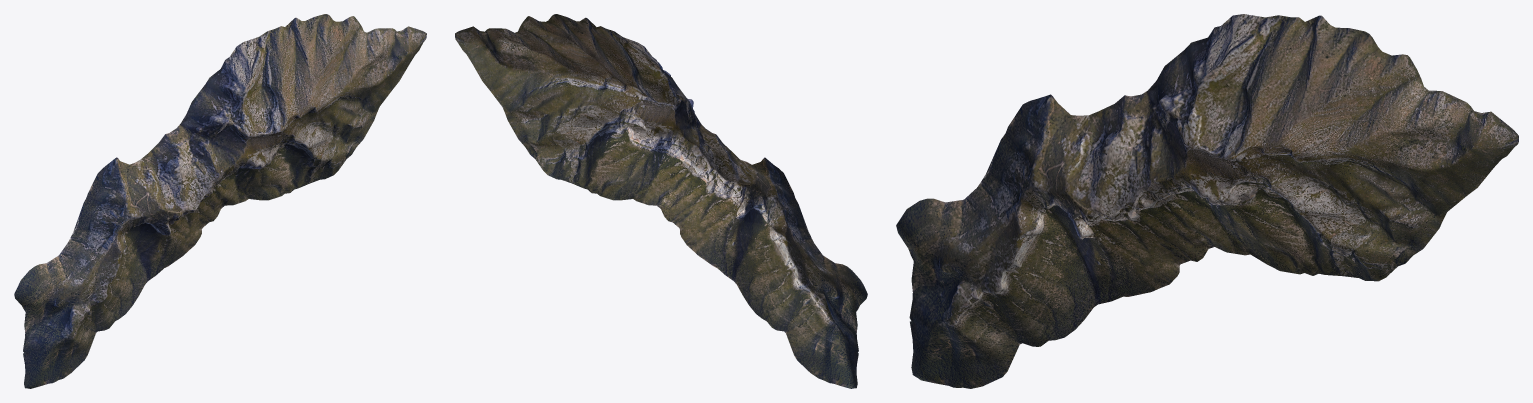
File: hd_out_EU_001_Seacliffs_huge_01.fbx
3 views of the same model, side by side, from view 1: azimuth 30°, elevation 25°; view 2: azimuth 150°, elevation 25°; view 3: azimuth 330°, elevation 25° (orthographic). The views are drawn at different scales.
Visible parts, largest first — view 1: set_0_group_0; view 2: set_0_group_0; view 3: set_0_group_0.
Boxes of the visible parts, x1,y1,x2,y2 form: set_0_group_0: (14,14,426,388); set_0_group_0: (455,14,867,388); set_0_group_0: (896,14,1518,388).
Size of the model in its own units: 291428 by 206878 by 29591.
Materials: 1 (1 with a texture image).
